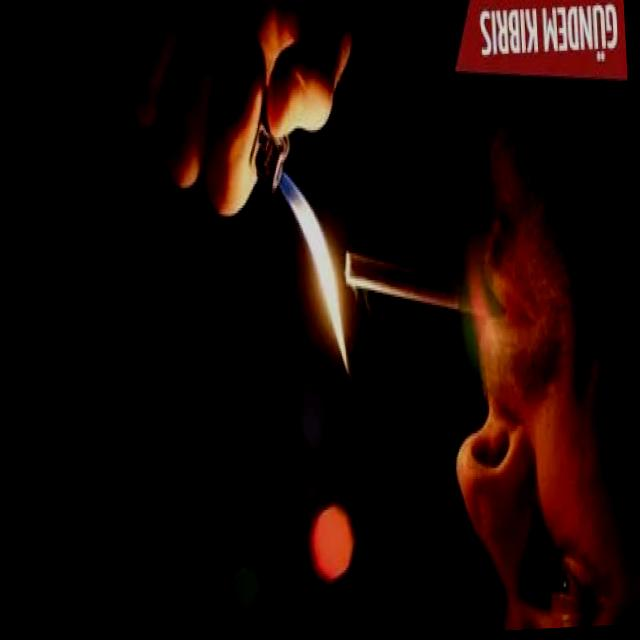cigarette: (343, 235, 506, 338)
